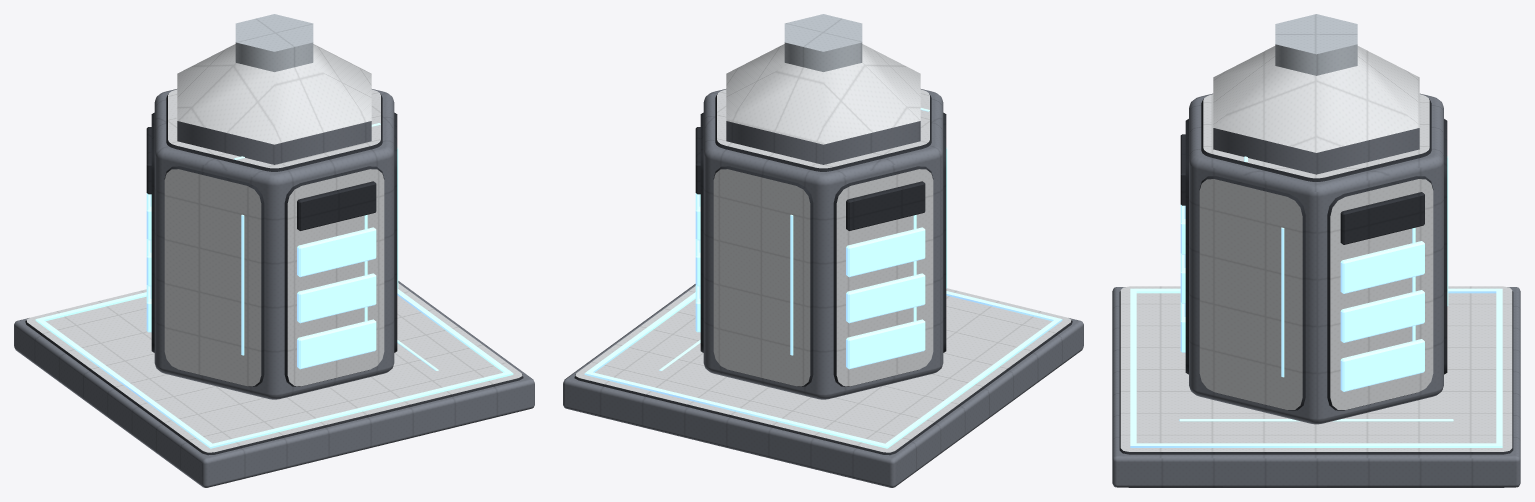
File: R4X_ChargeCapacity.glb
3 views of the same model, side by side, from view 1: azimuth 30°, elevation 25°; view 2: azimuth 150°, elevation 25°; view 3: azimuth 270°, elevation 25° (orthographic). The views are drawn at different scales.
Visible parts, largest first — view 1: R4X_ChargeCapacity_Body; view 2: R4X_ChargeCapacity_Body; view 3: R4X_ChargeCapacity_Body.
Boxes of the visible parts, x1,y1,x2,y2 form: R4X_ChargeCapacity_Body: (14, 14, 534, 487); R4X_ChargeCapacity_Body: (563, 14, 1083, 487); R4X_ChargeCapacity_Body: (1112, 14, 1520, 487).
Bounding box in the file's own units: 0.514 × 0.515 × 0.514.
Materials: 5 (4 with a texture image).
